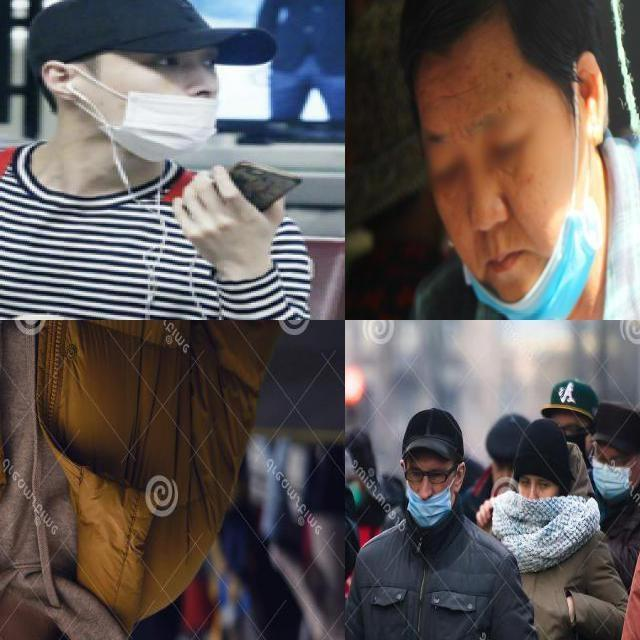hairnet: (452, 179, 590, 319), (70, 66, 228, 156), (407, 477, 457, 525)
